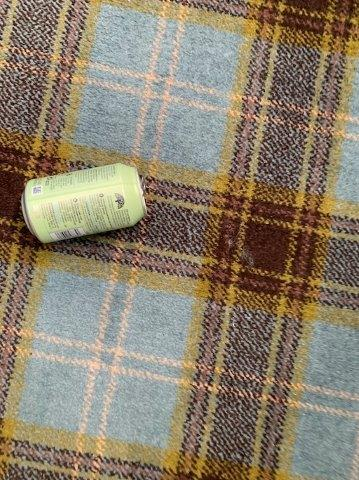kaleng: (22, 163, 147, 244)
